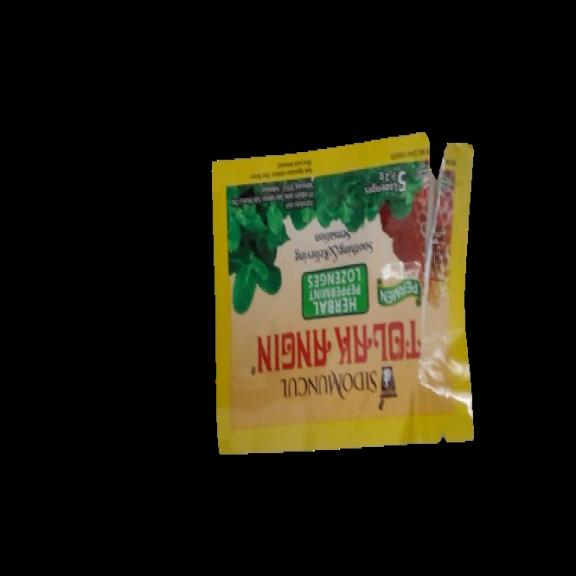Plastik: (209, 119, 479, 454)
